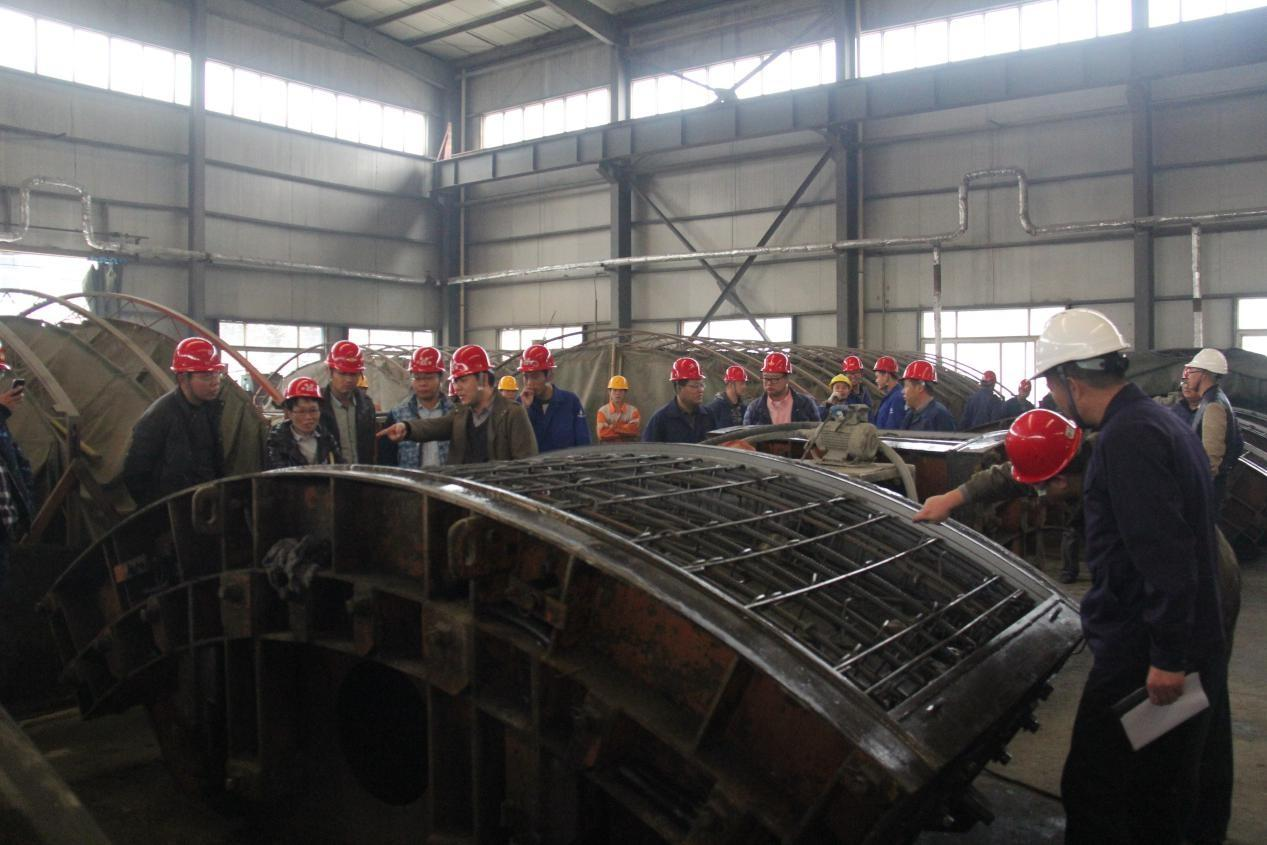Helmet: (1035, 305, 1125, 413), (1007, 409, 1083, 485), (171, 333, 227, 403), (450, 346, 494, 407), (323, 341, 367, 392), (672, 356, 709, 401), (760, 351, 794, 393)
